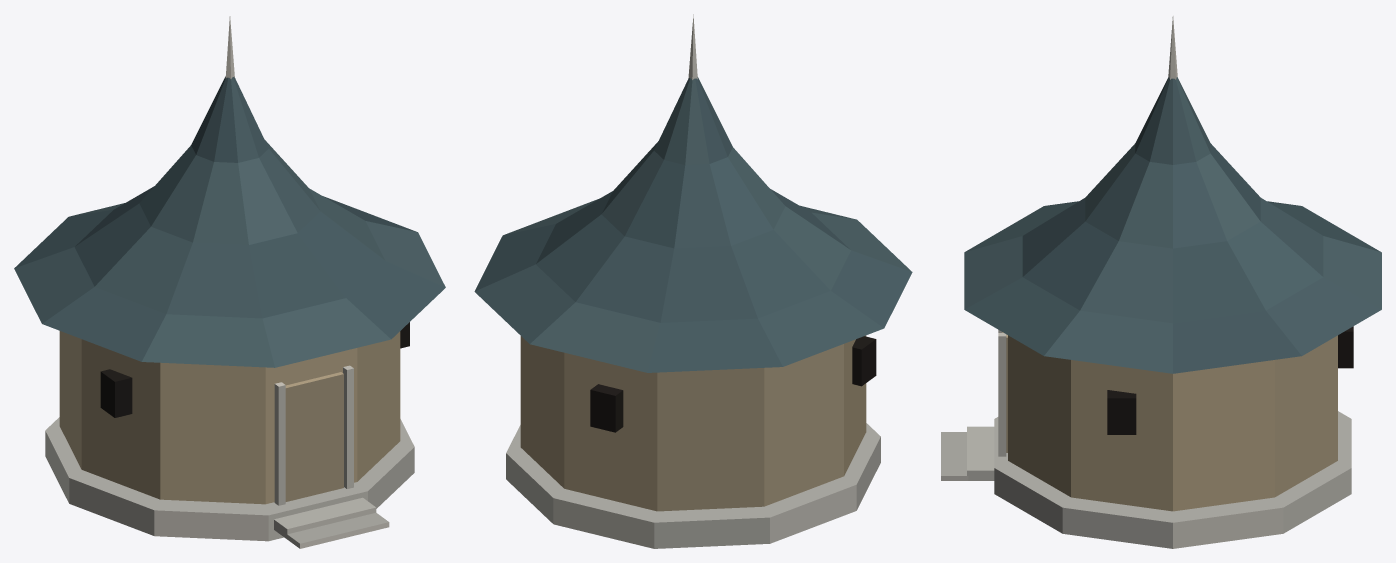
The model's file is walk_veiled_row.glb.
The picture shows the model from 3 angles, left to right: view 1: azimuth 30°, elevation 25°; view 2: azimuth 150°, elevation 25°; view 3: azimuth 270°, elevation 25°; orthographic projection.
Parts seen in each view (by area): view 1: walk_veiled_row_roof, walk_veiled_row; view 2: walk_veiled_row_roof, walk_veiled_row; view 3: walk_veiled_row_roof, walk_veiled_row.
Part boxes in pixels (bbox=[...]): walk_veiled_row_roof: bbox=[14, 16, 445, 367]; walk_veiled_row: bbox=[45, 322, 414, 548]; walk_veiled_row_roof: bbox=[474, 14, 912, 372]; walk_veiled_row: bbox=[506, 335, 880, 548]; walk_veiled_row_roof: bbox=[964, 16, 1381, 373]; walk_veiled_row: bbox=[941, 326, 1353, 548].
Size of what is drawn, in the model's own units: 7.6 by 8.7 by 7.63.
Materials: 1 (1 with a texture image).
